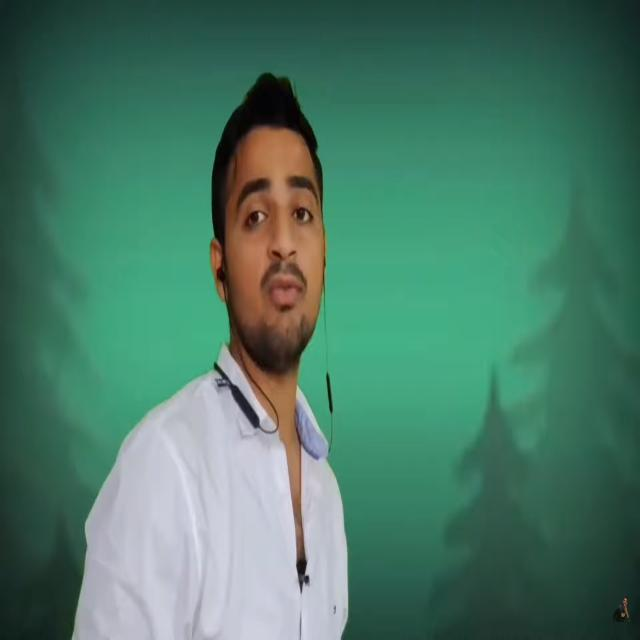Neckband: (213, 256, 334, 459)
